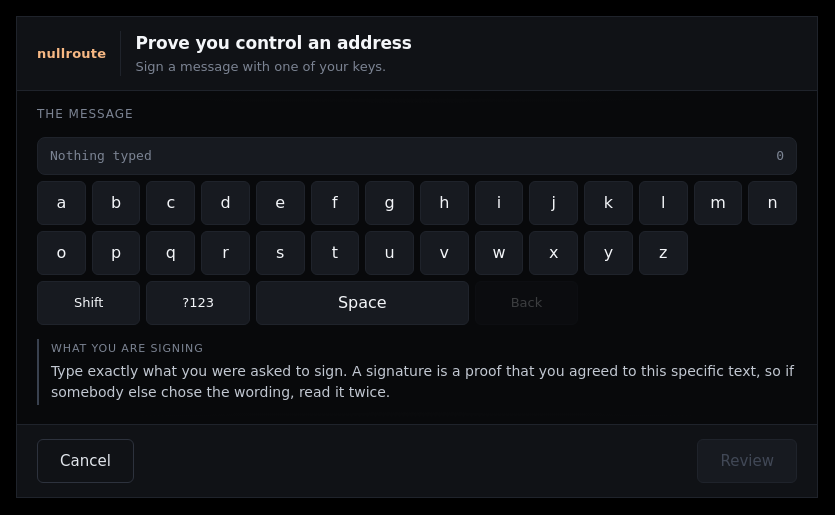
Test: MessageScreen › does-not-sign-when-reviewing
The width and height of the screenshot is (835, 515).
Click the button "h": (444, 203) [420,181,469,225]
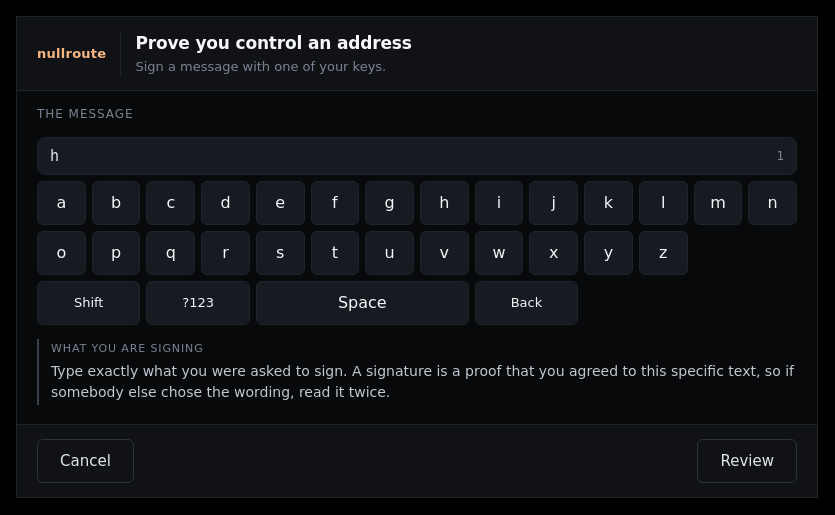
Click the button "i": (499, 203) [475,181,523,225]
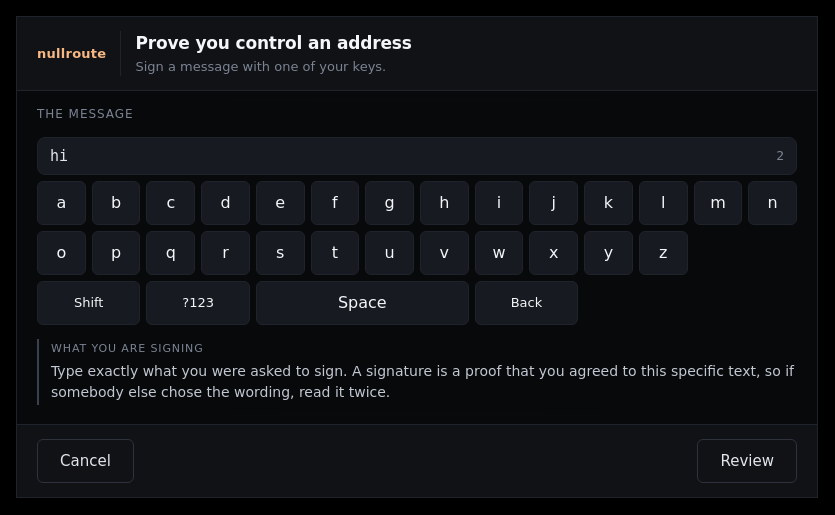
Click the button with test id "message-review": (747, 461) [698,439,797,483]
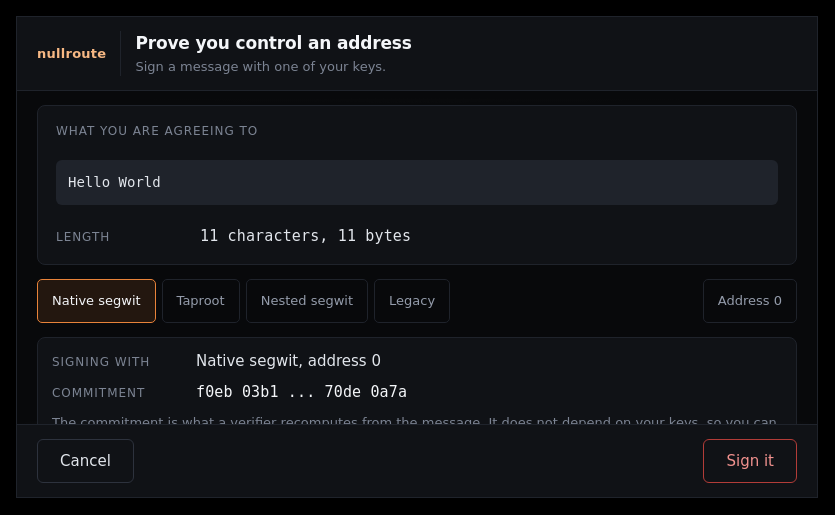
Check: the text "Hello World" is shown, box [56,160,778,205]
Check: the button with test id "message-sign" is shown, box [704,439,797,483]
